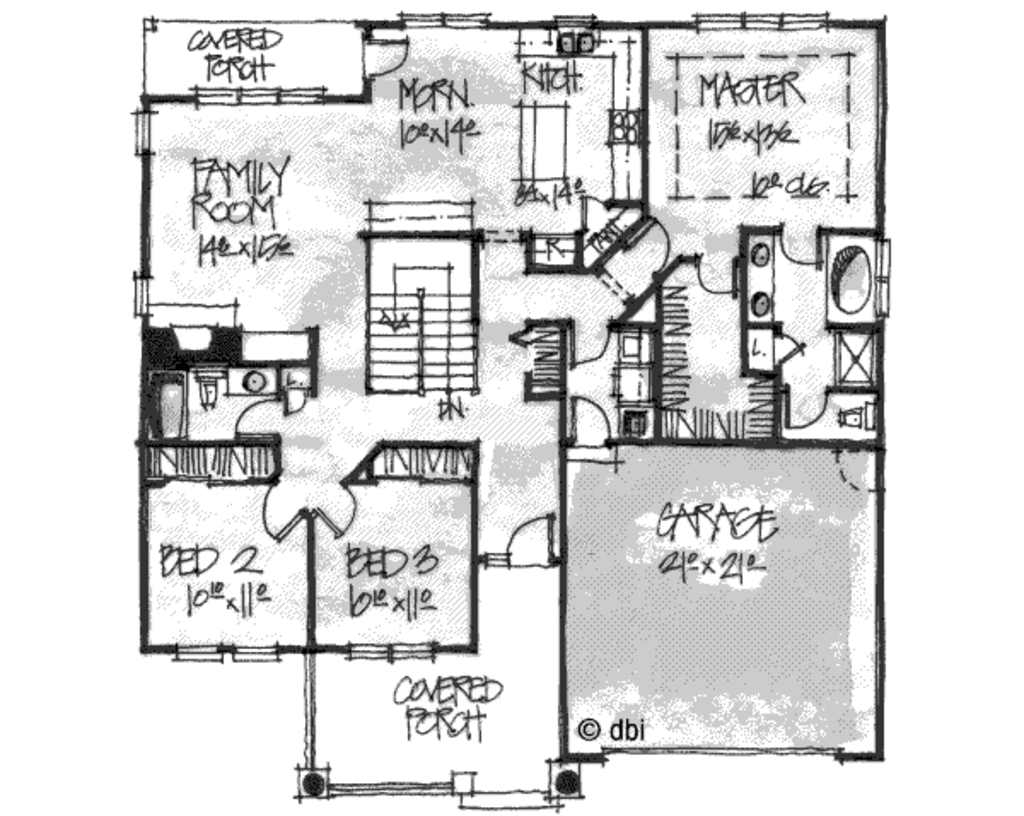door: (564, 392, 619, 464), (495, 510, 561, 567), (306, 478, 362, 539), (689, 255, 750, 308), (838, 443, 891, 499), (623, 216, 674, 273), (775, 374, 827, 429), (562, 311, 608, 372), (258, 483, 303, 542), (358, 36, 411, 78), (776, 219, 818, 268), (231, 395, 281, 435), (772, 328, 809, 374)
large_sink: (190, 365, 222, 413)
small_sink: (745, 222, 773, 322), (227, 366, 270, 392)
stairs: (350, 188, 491, 399)
tub: (153, 370, 190, 445)
window: (685, 3, 835, 36), (195, 79, 327, 116), (392, 7, 493, 35), (337, 640, 437, 665), (127, 106, 163, 155), (230, 634, 281, 667), (133, 261, 157, 319), (169, 642, 224, 667)
